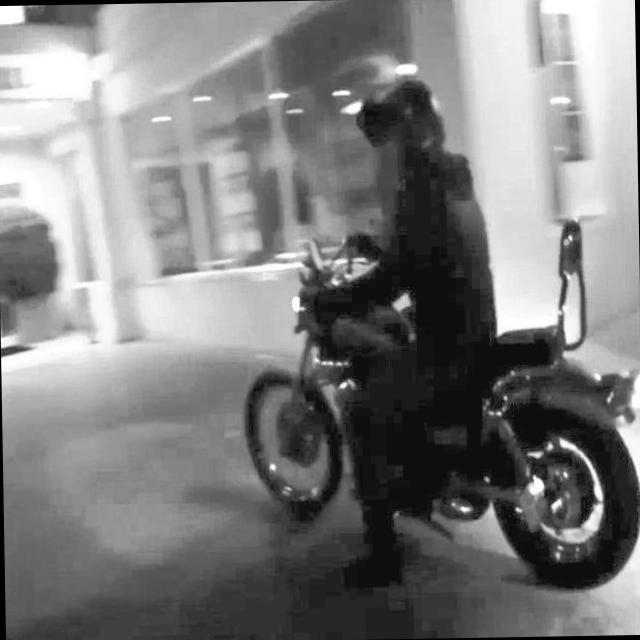Motorcycle: (229, 209, 640, 624)
